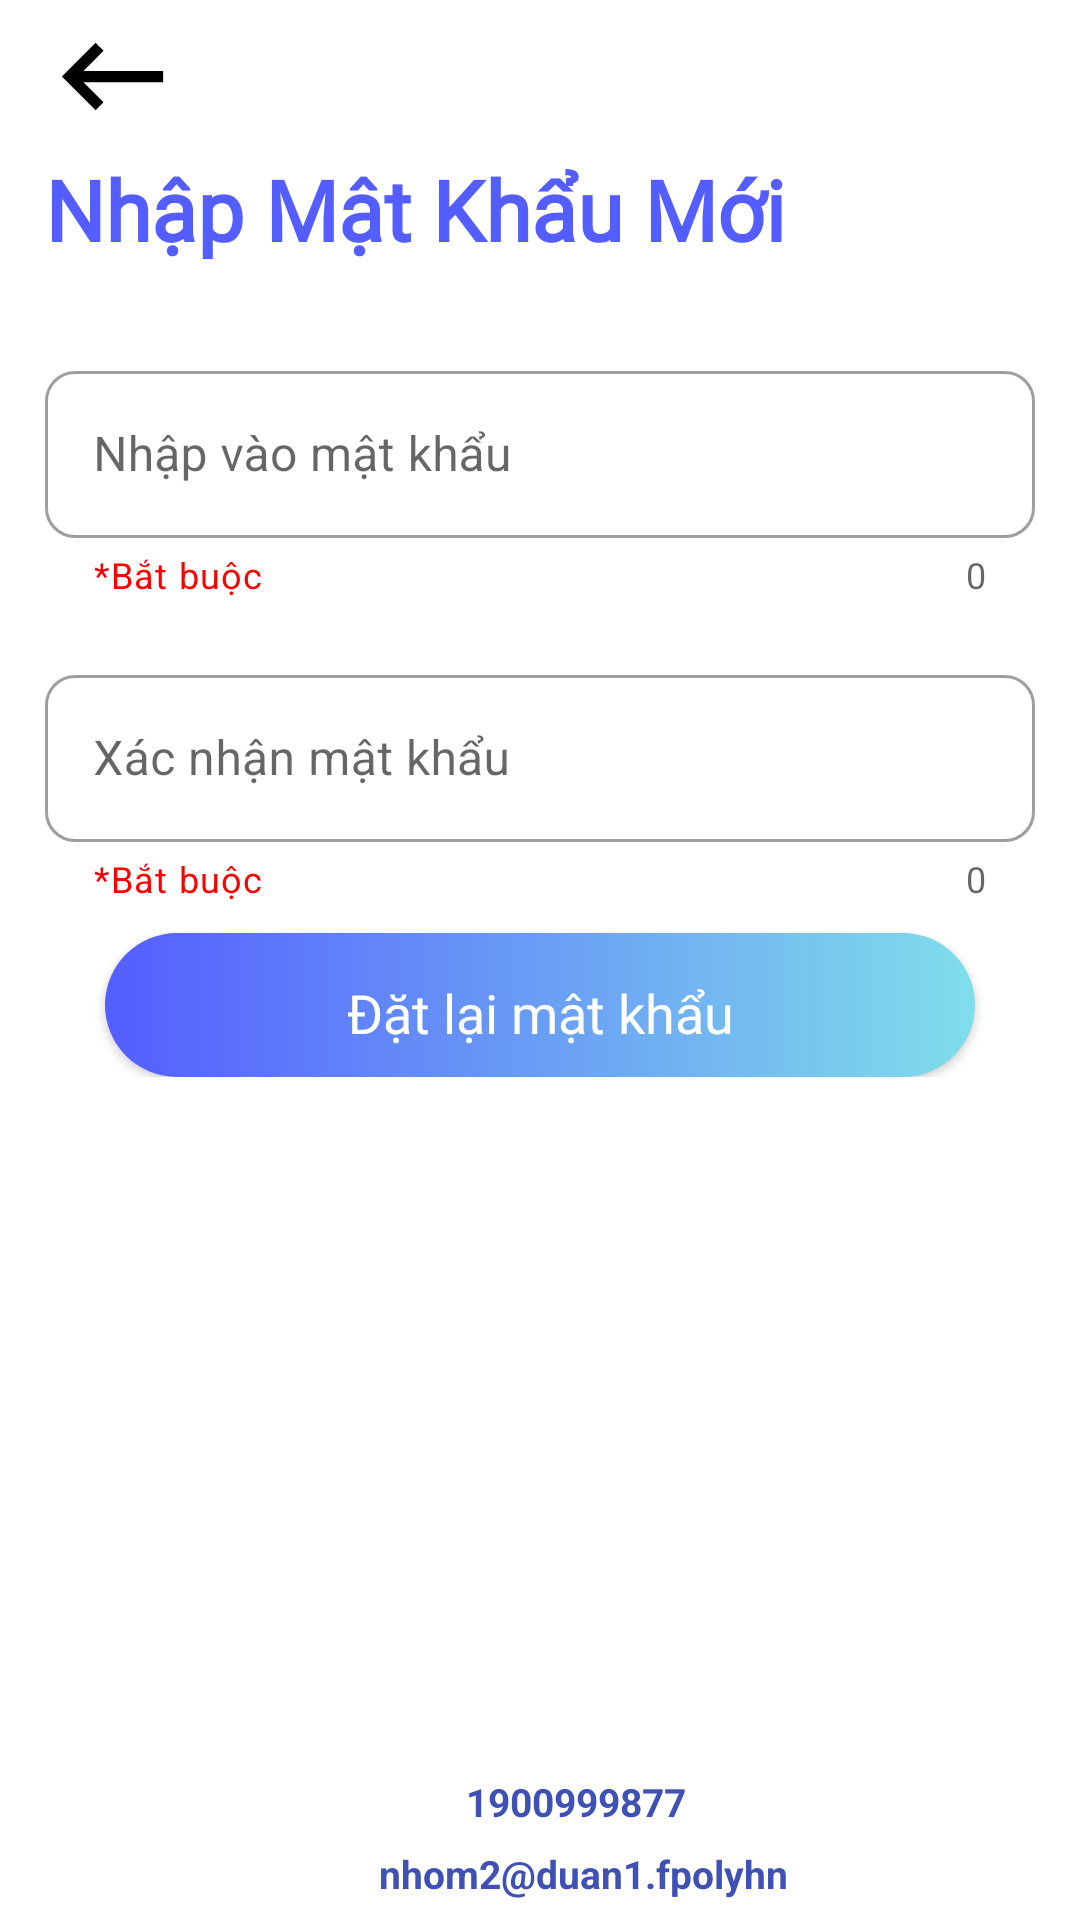

Named icons in this screenshot (1080px×1920px) and their bounding boxes, (x1, y1, x2, y2):
keyboard backspace: (62, 43, 164, 110)
